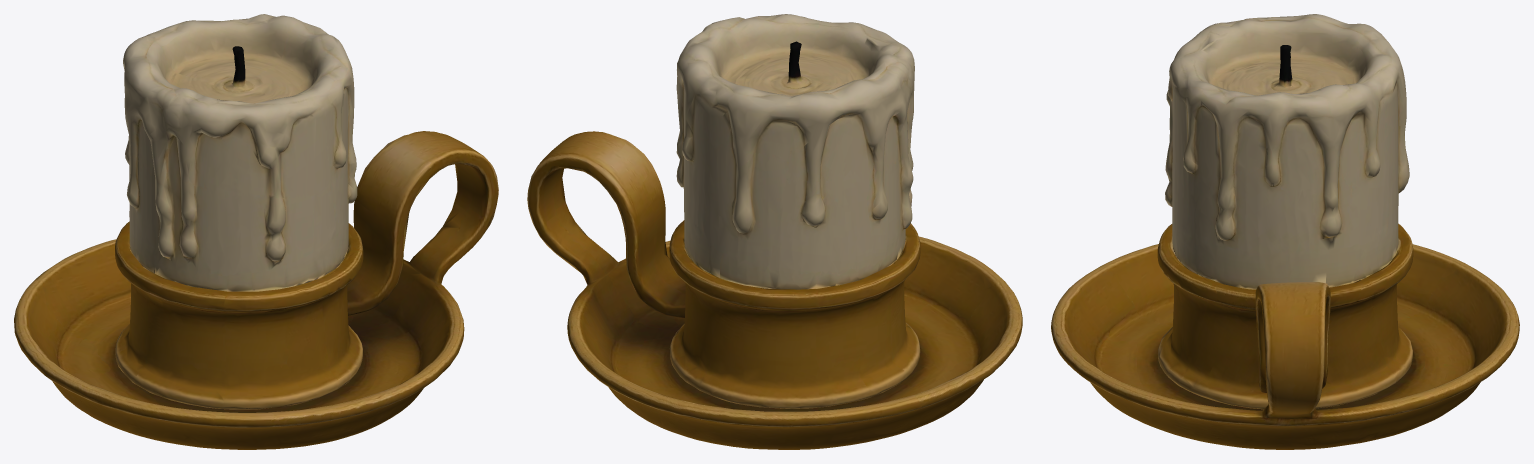
The model's file is study_candle_a_v1.glb.
The picture shows the model from 3 angles, left to right: view 1: azimuth 30°, elevation 25°; view 2: azimuth 150°, elevation 25°; view 3: azimuth 270°, elevation 25°; orthographic projection.
Parts seen in each view (by area): view 1: tripo_node_23a68842-a166-41ef-b12c-ce94f99d3895; view 2: tripo_node_23a68842-a166-41ef-b12c-ce94f99d3895; view 3: tripo_node_23a68842-a166-41ef-b12c-ce94f99d3895.
Part boxes in pixels (x1,y1,x2,y2): tripo_node_23a68842-a166-41ef-b12c-ce94f99d3895: (14,14,498,449); tripo_node_23a68842-a166-41ef-b12c-ce94f99d3895: (527,14,1022,449); tripo_node_23a68842-a166-41ef-b12c-ce94f99d3895: (1051,14,1519,449).
Bounding box in the file's own units: 0.9795 × 0.6915 × 0.8887.
Materials: 1 (1 with a texture image).
